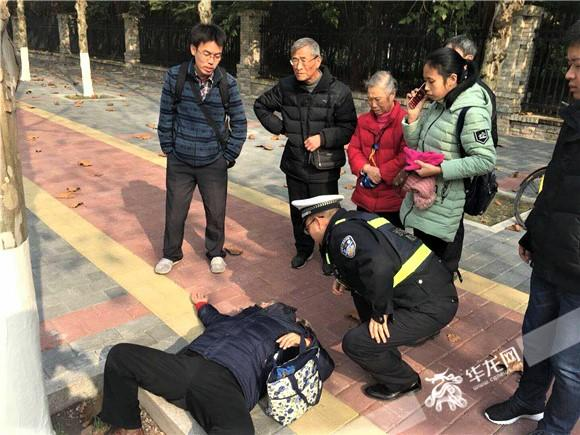bending: (287, 190, 461, 408)
down: (86, 288, 349, 433)
up: (485, 47, 579, 432), (255, 31, 353, 276), (154, 26, 244, 277), (406, 49, 501, 284), (344, 63, 408, 219)
